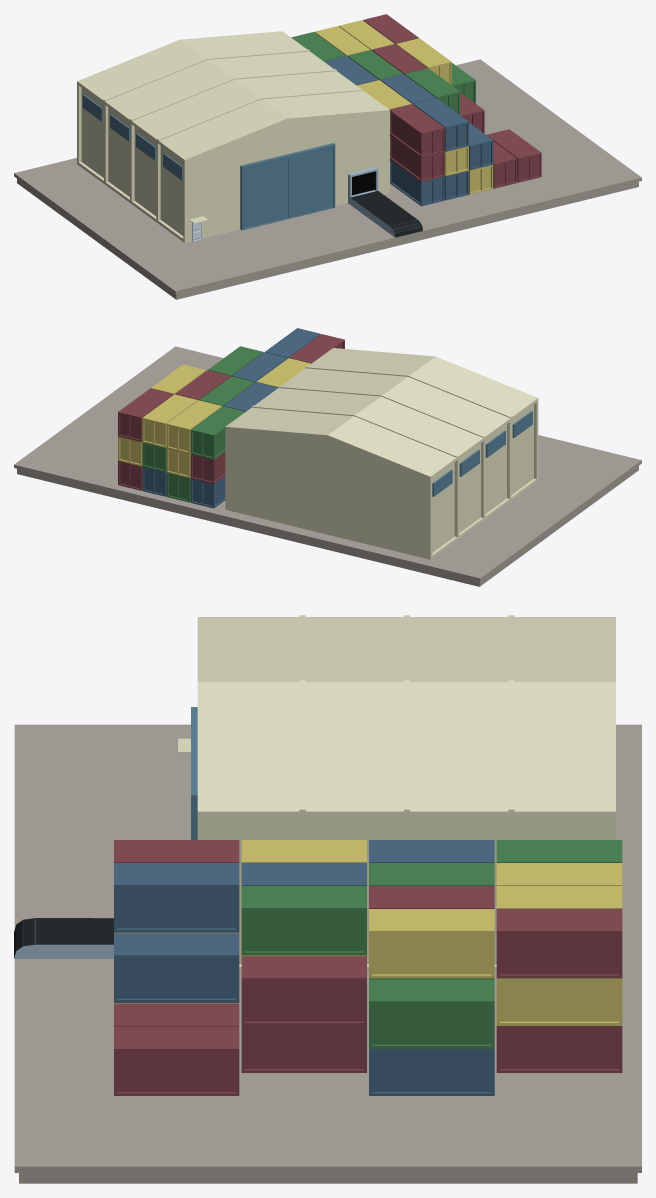
File: Warehouse.FBX
3 renders of one model, top to bottom at view 1: azimuth 30°, elevation 25°; view 2: azimuth 150°, elevation 25°; view 3: azimuth 270°, elevation 25°, orthographic. The views are drawn at different scales.
Parts seen in each view (by area): view 1: Box119, Box120, Box124, Box188, Box139, Box140, Box133, Box134, Box129, Box156, Box172, Box132 (+15 smaller); view 2: Box119, Box120, Box184, Box185, Box187, Box186, Box179, Box174, Box139, Box140, Box155, Box171 (+11 smaller); view 3: Box120, Box119, Box187, Box140, Box136, Box172, Box152, Box168, Box133, Box156, Box182, Box177 (+14 smaller).
Part boxes in pixels (x1,y1,x2,y2): Box119: [77, 31, 389, 242]; Box120: [14, 59, 641, 299]; Box124: [240, 143, 335, 230]; Box188: [348, 167, 422, 237]; Box139: [390, 104, 444, 157]; Box140: [413, 98, 468, 151]; Box133: [486, 129, 541, 182]; Box134: [390, 135, 444, 181]; Box129: [390, 159, 444, 206]; Box156: [404, 68, 460, 114]; Box172: [396, 38, 451, 84]; Box132: [493, 141, 517, 188]; Box119: [225, 348, 538, 559]; Box120: [14, 346, 641, 586]; Box184: [190, 406, 245, 459]; Box185: [166, 400, 221, 453]; Box187: [118, 388, 173, 441]; Box186: [142, 394, 197, 447]; Box179: [190, 452, 225, 483]; Box174: [190, 476, 225, 508]; Box139: [289, 334, 344, 363]; Box140: [265, 328, 320, 358]; Box155: [232, 352, 287, 382]; Box171: [175, 370, 230, 400]; Box120: [14, 724, 641, 1183]; Box119: [197, 615, 615, 972]; Box187: [496, 909, 622, 978]; Box140: [114, 863, 239, 932]; Box136: [114, 933, 239, 1002]; Box172: [369, 909, 494, 978]; Box152: [241, 956, 366, 1025]; Box168: [369, 979, 494, 1048]; Box133: [114, 1026, 239, 1095]; Box156: [241, 886, 366, 955]; Box182: [496, 978, 622, 1025]; Box177: [496, 1026, 622, 1072].
Bounding box in the file's own units: 50 × 11.29 × 30.02.
